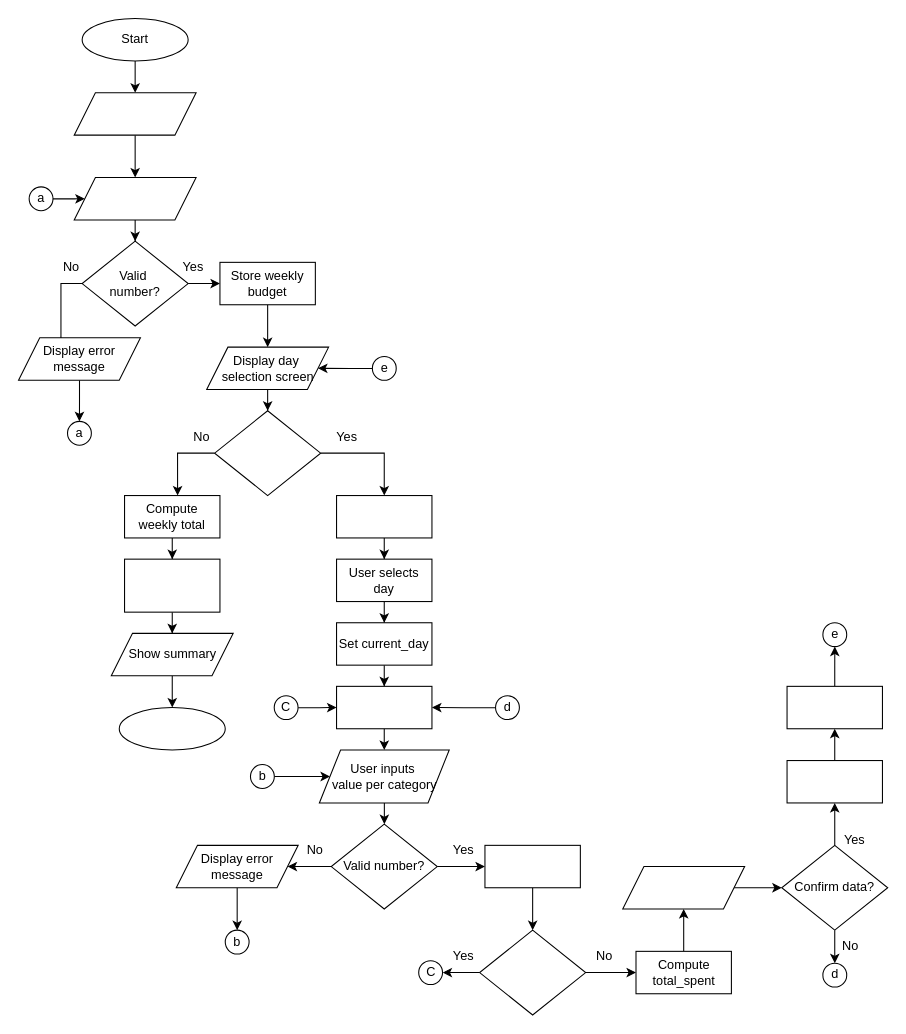
Image size: 906x1034. Some labels were removed from this diagram. Each missing label, with the centre of its shape:
Add to used_days: [834,707]
Any days left?: [267,453]
Compute remaining budget: [171,585]
Display available days: [383,516]
Display budget screen input: [134,113]
Display preview screen: [683,887]
Loop through expense categories: [383,707]
More categories?: [532,972]
Save to weekly_data: [834,781]
Stop: [171,728]
Stores in entry dictionary: [532,866]
User enters weekly budget: [134,198]
